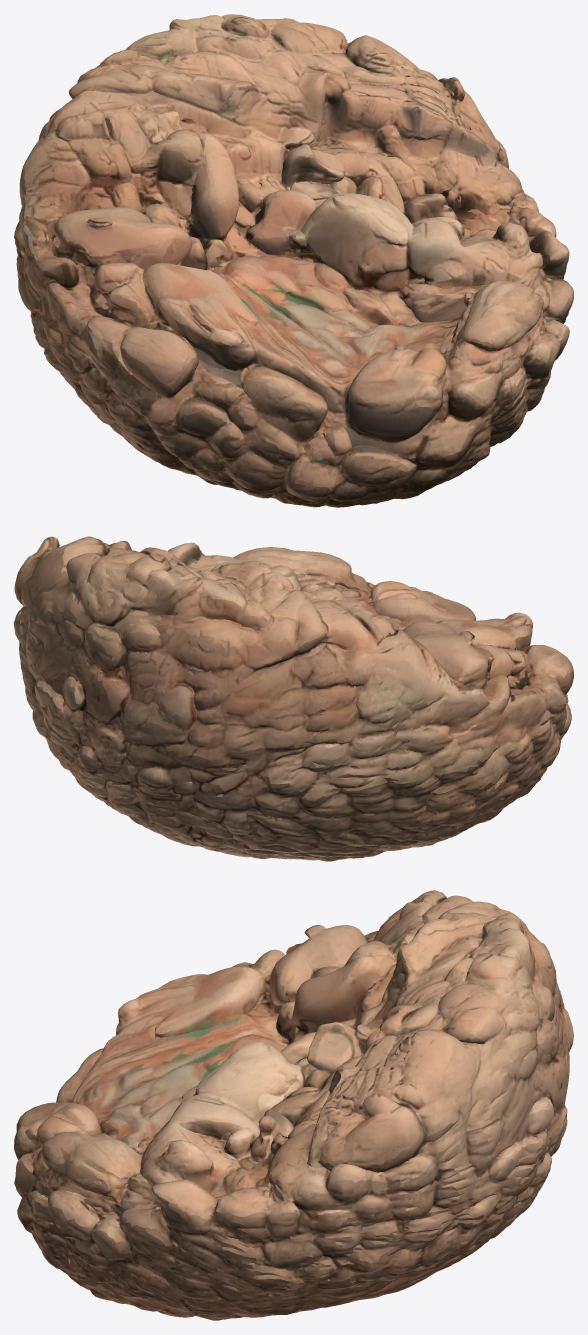
The model's file is fractured-outcrop-v5.glb.
3 renders of one model, top to bottom at view 1: azimuth 30°, elevation 25°; view 2: azimuth 150°, elevation 25°; view 3: azimuth 270°, elevation 25°, orthographic.
Visible parts, largest first — view 1: geometry_0; view 2: geometry_0; view 3: geometry_0.
Part boxes in pixels (box(x1,y1,x2,y2)): geometry_0: box(14, 14, 573, 507); geometry_0: box(14, 536, 573, 861); geometry_0: box(14, 890, 573, 1320).
Size of the model in its own units: 1.2 by 0.8206 by 1.2.
1 material, 1 textured.
